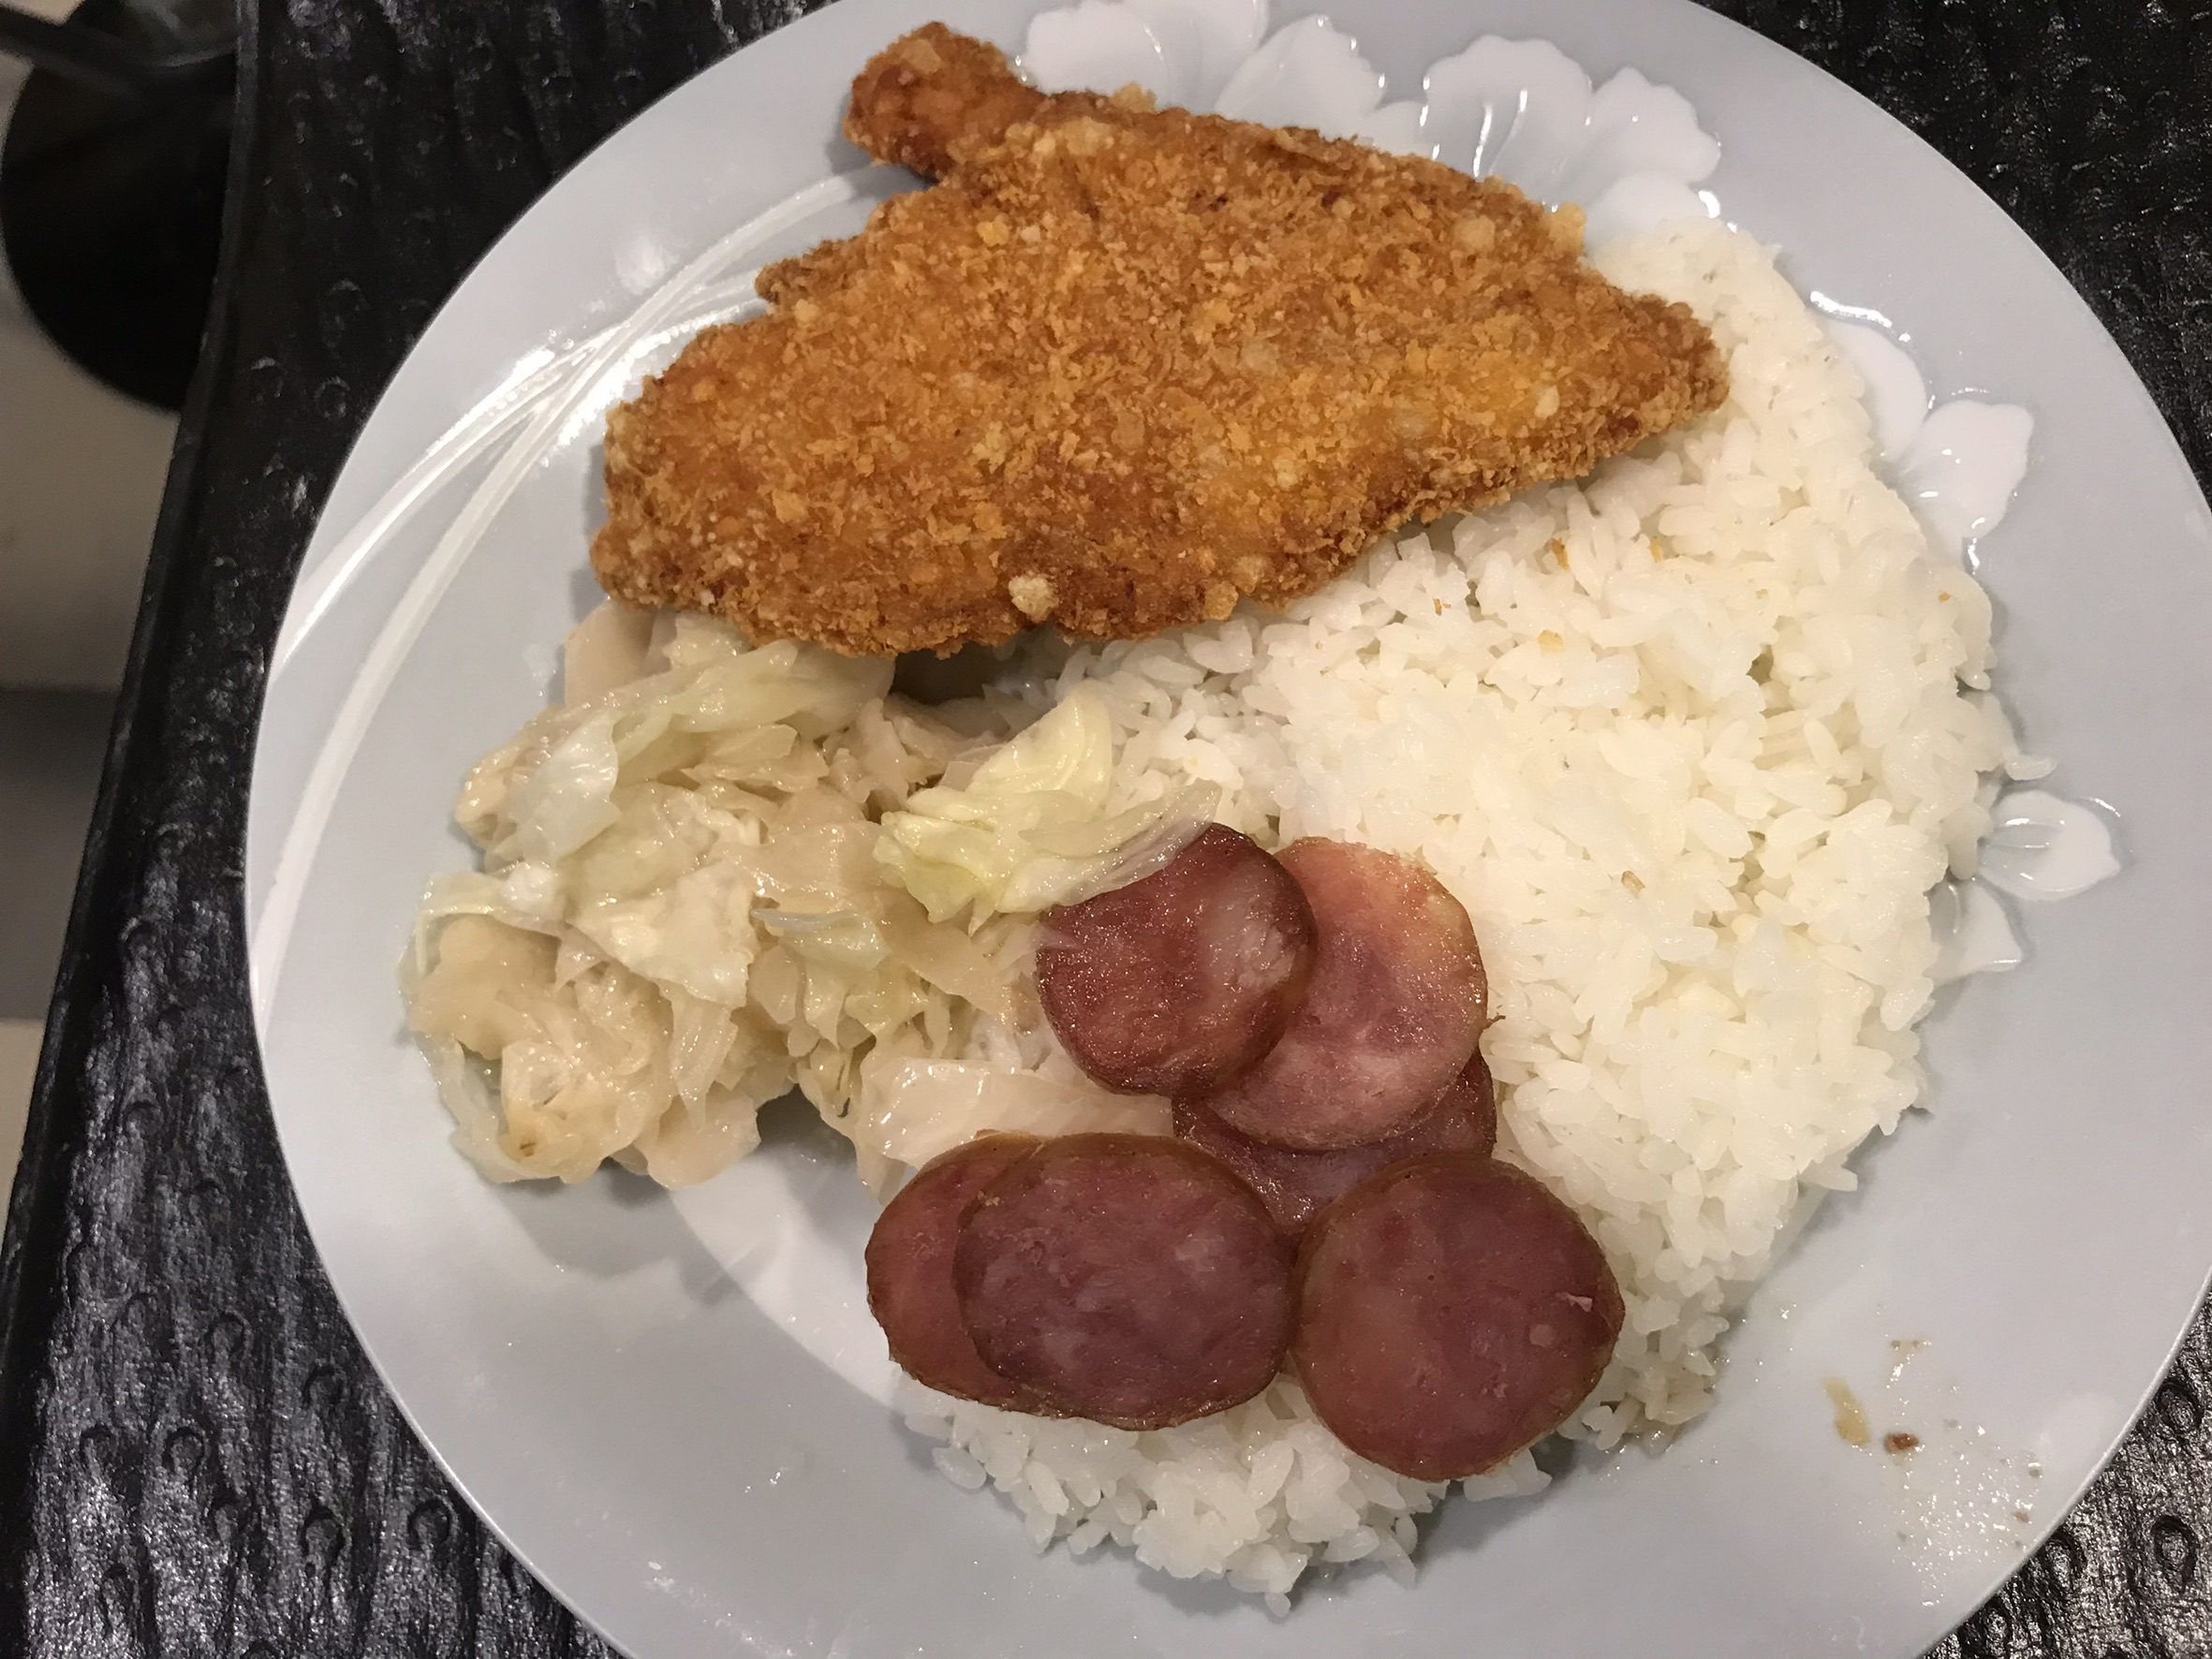chinese_cabbage: (436, 655, 1041, 1183)
chinese_sausage: (865, 823, 1623, 1485)
fried_chicken: (593, 31, 1724, 650)
rice: (1401, 450, 2013, 1201)
